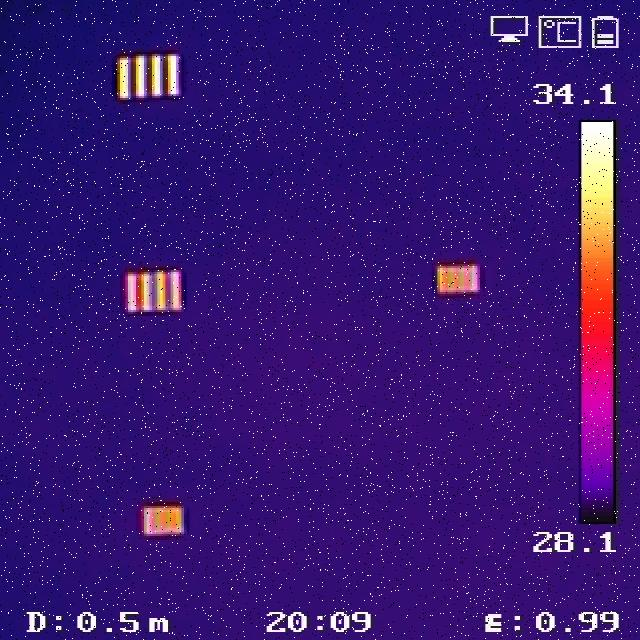Distinguishable 4-bar target: (116, 53, 184, 96), (122, 267, 182, 313)
threshold 4-bar target: (143, 506, 184, 535), (437, 266, 479, 292)
